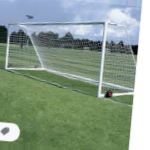goals: (4, 20, 135, 98)
